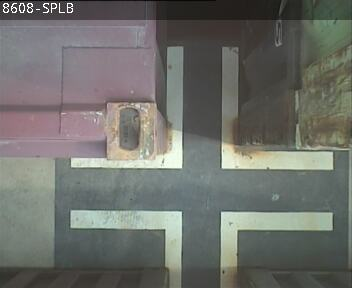groundmarker_1: (71, 45, 331, 169), (71, 210, 332, 288)
